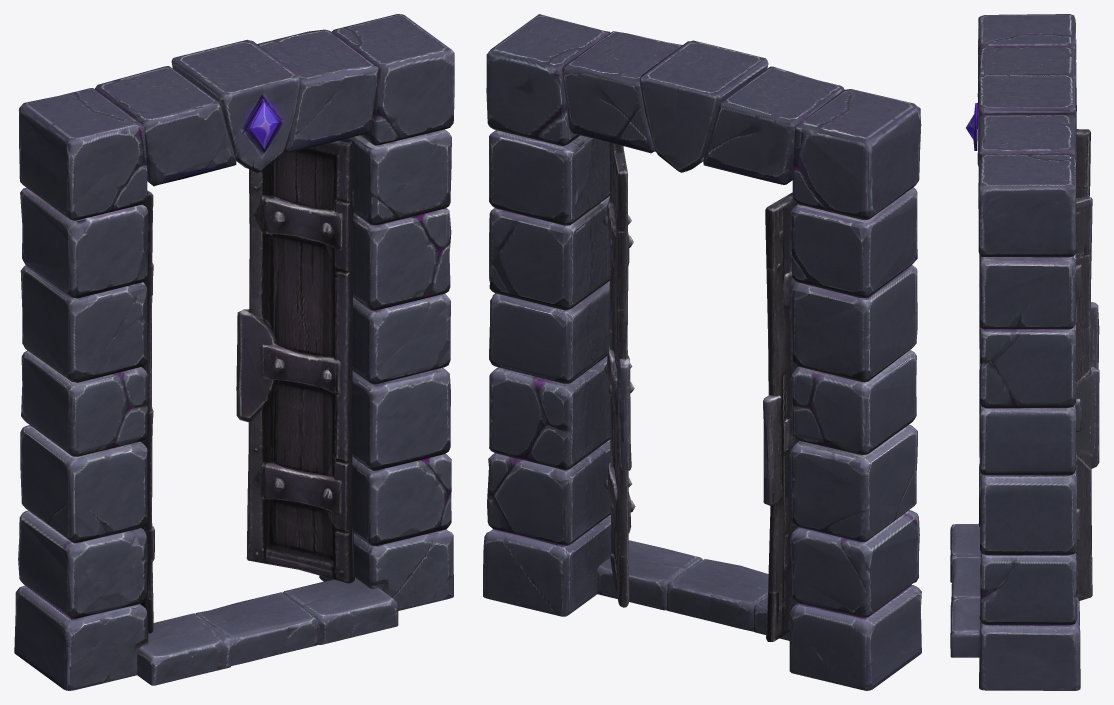
The model's file is door_open.glb.
The picture shows the model from 3 angles, left to right: view 1: azimuth 30°, elevation 25°; view 2: azimuth 150°, elevation 25°; view 3: azimuth 270°, elevation 25°; orthographic projection. The views are drawn at different scales.
Size of the model in its own units: 0.7324 by 1 by 0.2646.
Materials: 1 (1 with a texture image).
